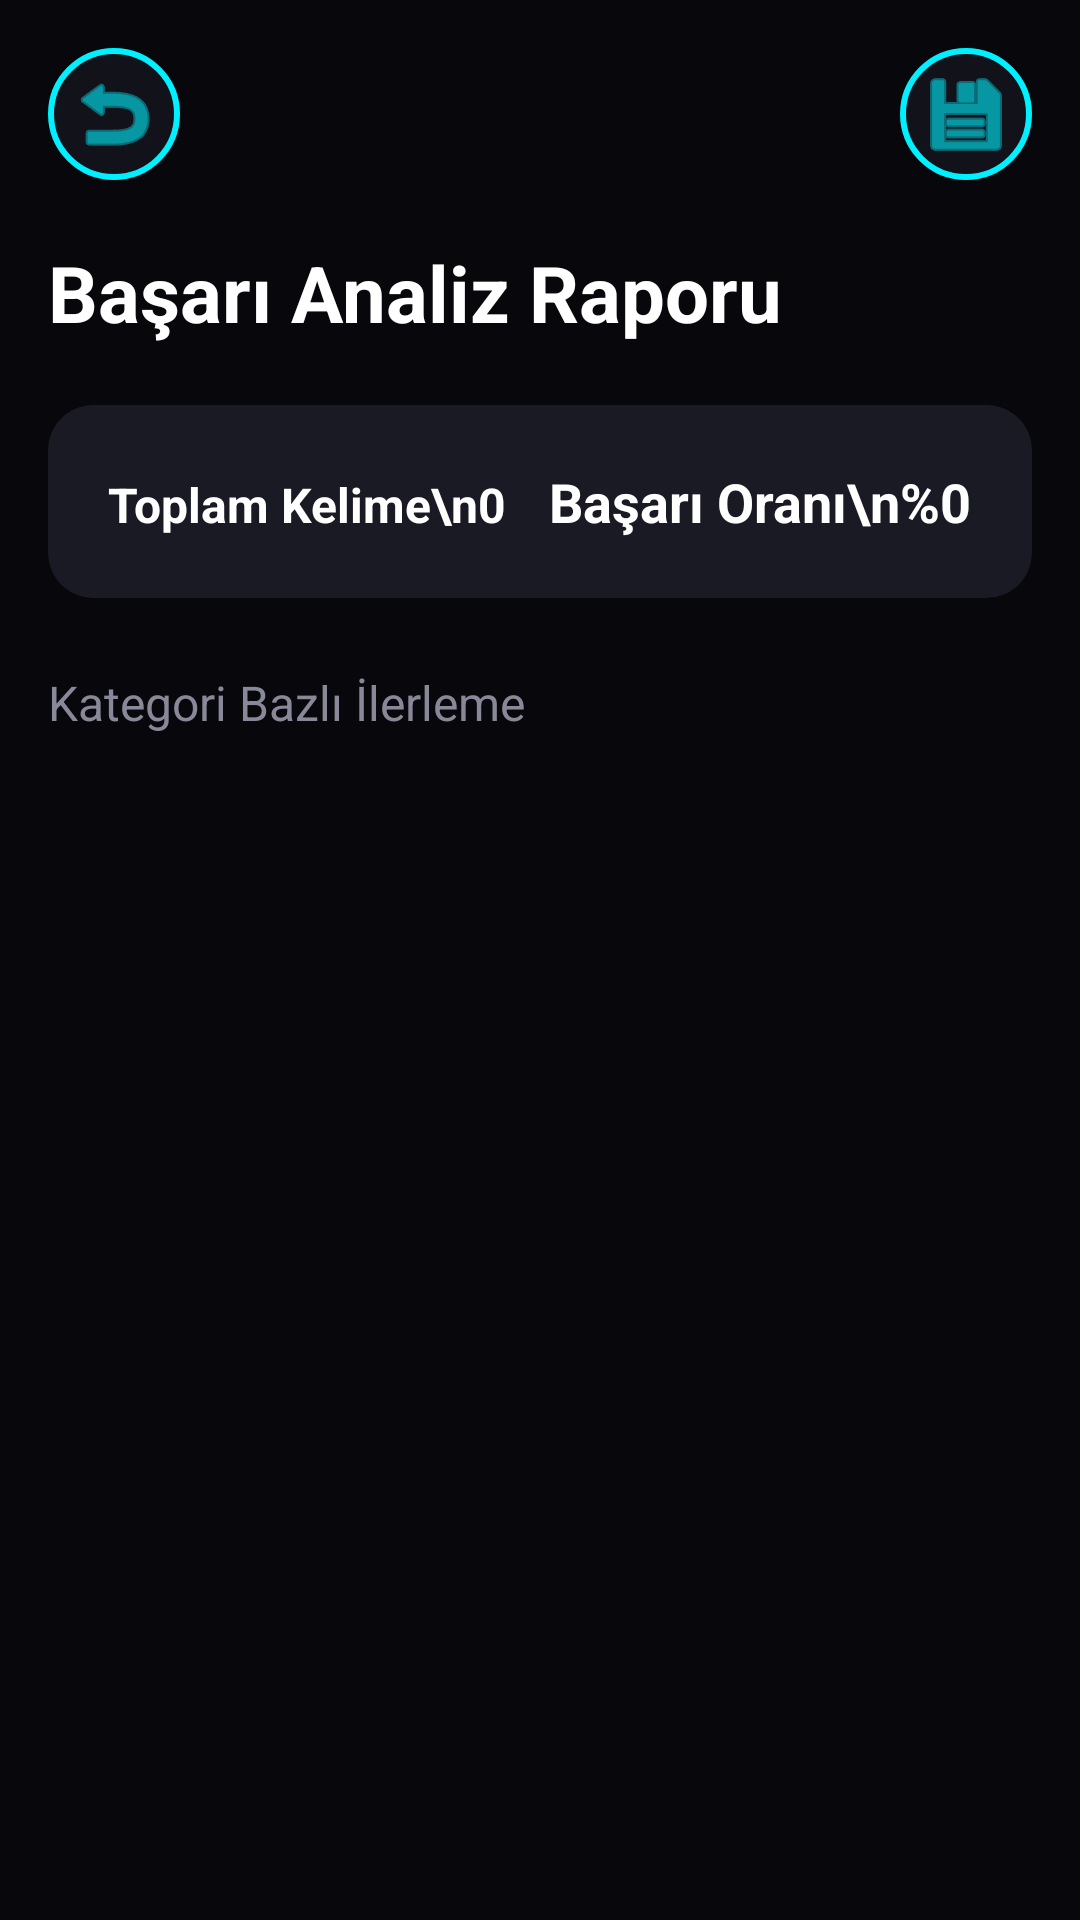

Icon bounding boxes for this 1080×1920 phone screenshot, format (x1, y1, x2, y2):
Geri Dön: (48, 48, 180, 180)
